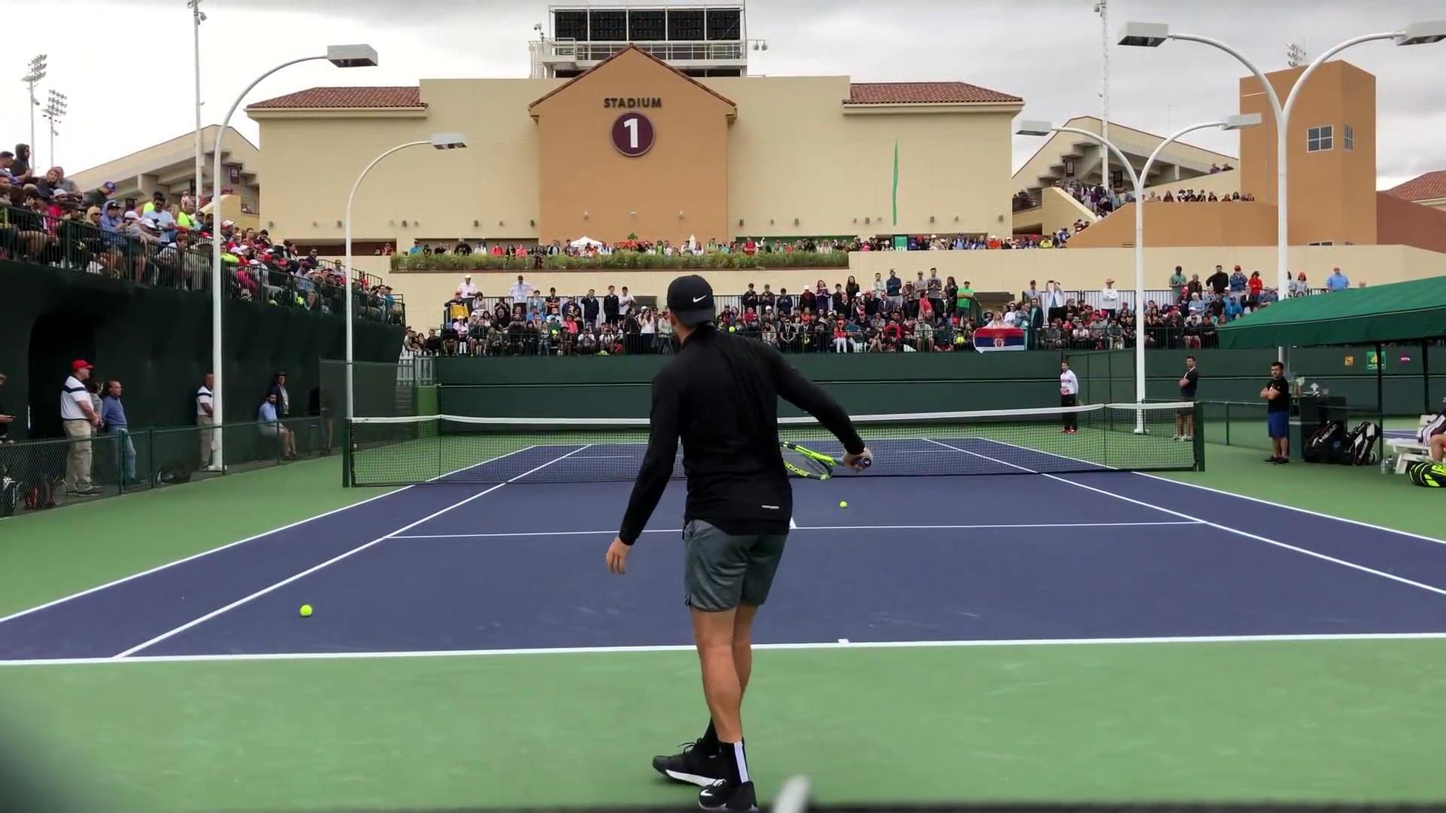ball: (299, 604, 314, 617), (838, 501, 848, 510)
